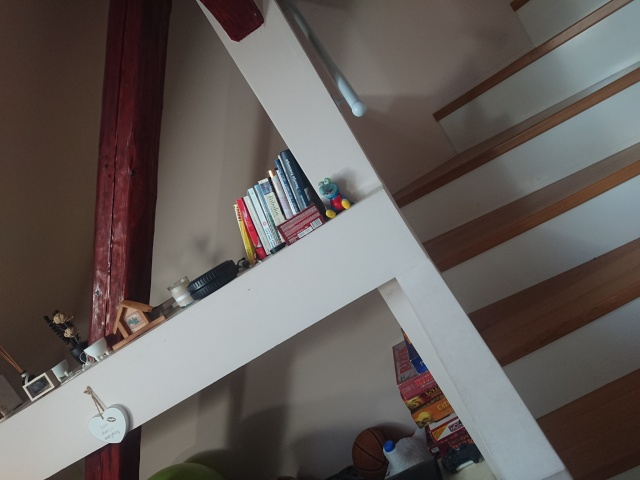Franck Apple Cinnamon Tea 60g: (275, 201, 326, 246)
